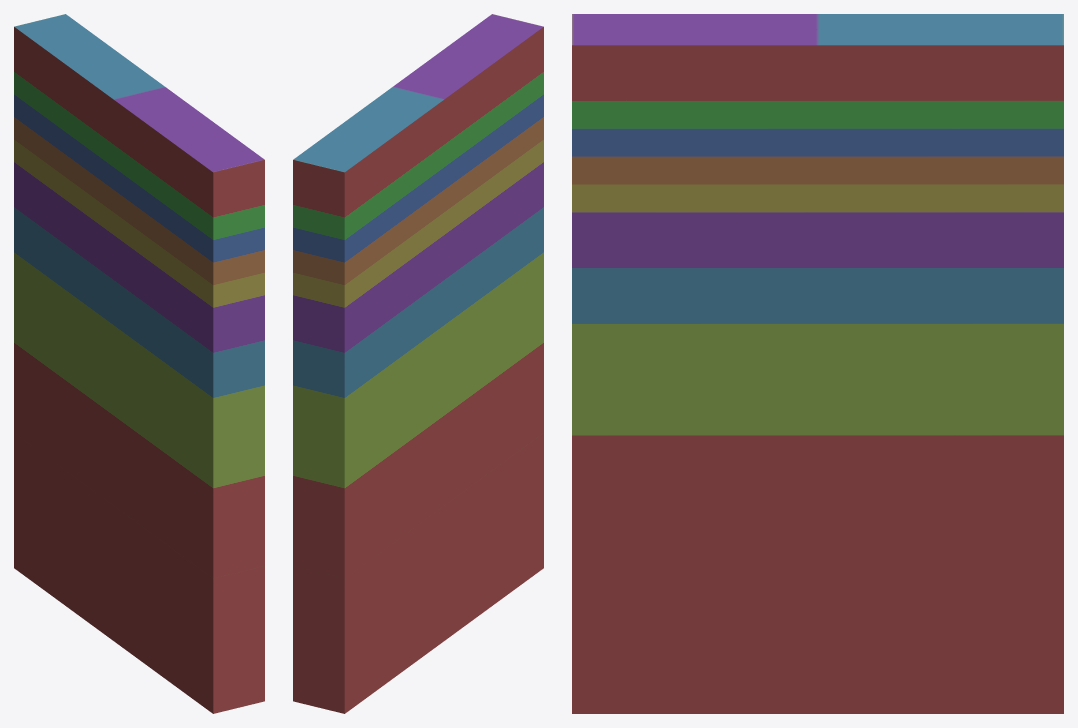
The model's file is Wall-0-mat.glb.
3 renders of one model, left to right at view 1: azimuth 30°, elevation 25°; view 2: azimuth 150°, elevation 25°; view 3: azimuth 270°, elevation 25°, orthographic. The views are drawn at different scales.
Visible parts, largest first — view 1: Cube.007; view 2: Cube.007; view 3: Cube.007.
Part boxes in pixels (x1,y1,x2,y2): Cube.007: (14,14,264,713); Cube.007: (293,14,543,713); Cube.007: (572,14,1063,713).
Bounding box in the file's own units: 0.6 × 6 × 4.
2 materials, 2 textured.
